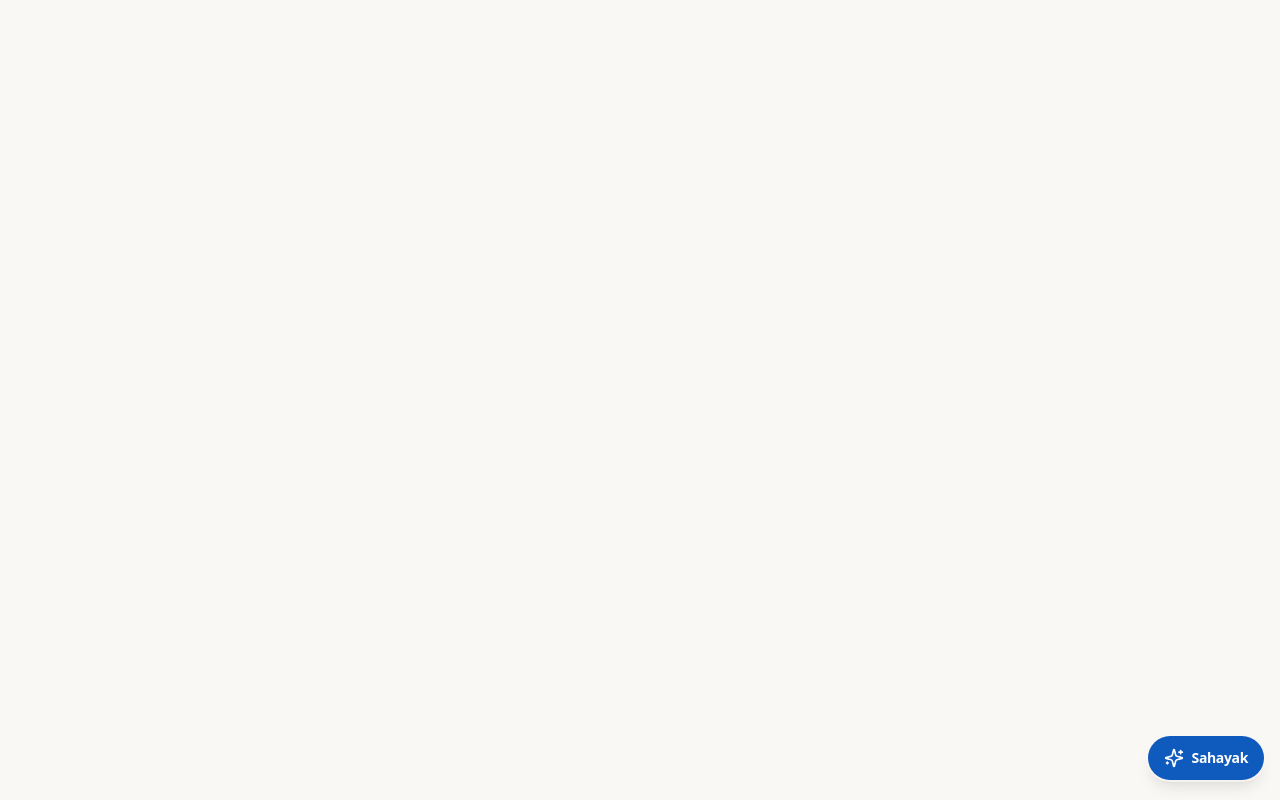
TownAssistant › TownAssistantDrawer UI › keeps user question and live AI result immediately visible in the open scroll container on form submit
Click the button with test id "town-assistant-fab" at (1206, 758), box x1=1148 y1=736 x2=1264 y2=780
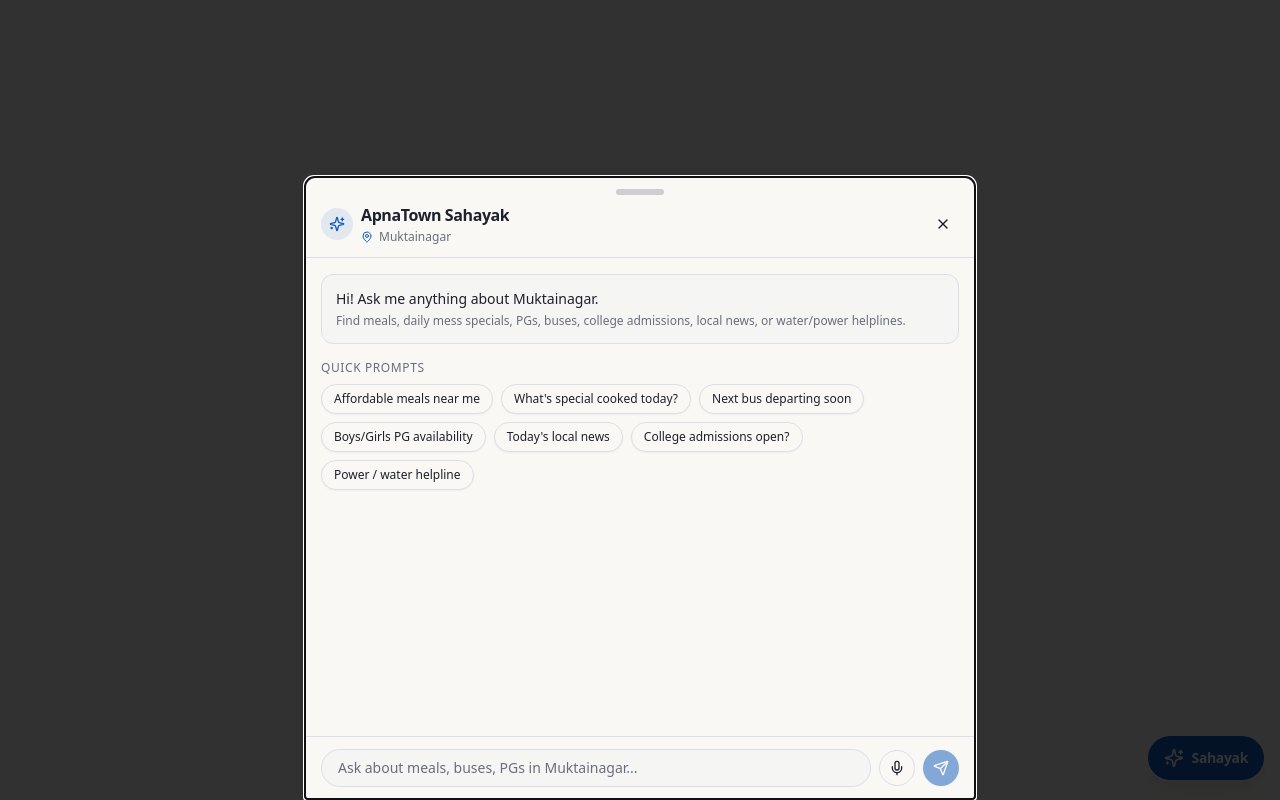
Type "Best cheap meal today?" into the field named "Ask a question" at (596, 768), box x1=321 y1=749 x2=871 y2=787
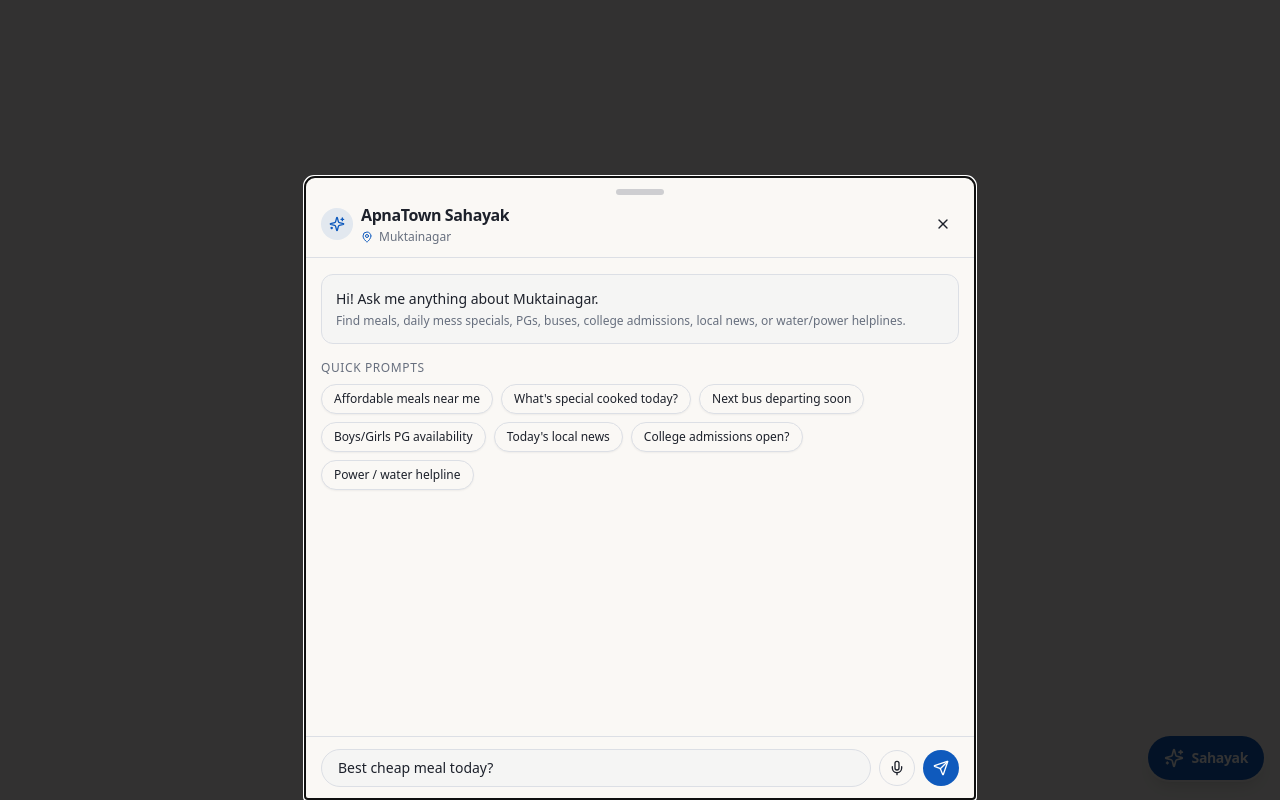
Submit the form, box x1=305 y1=736 x2=975 y2=799
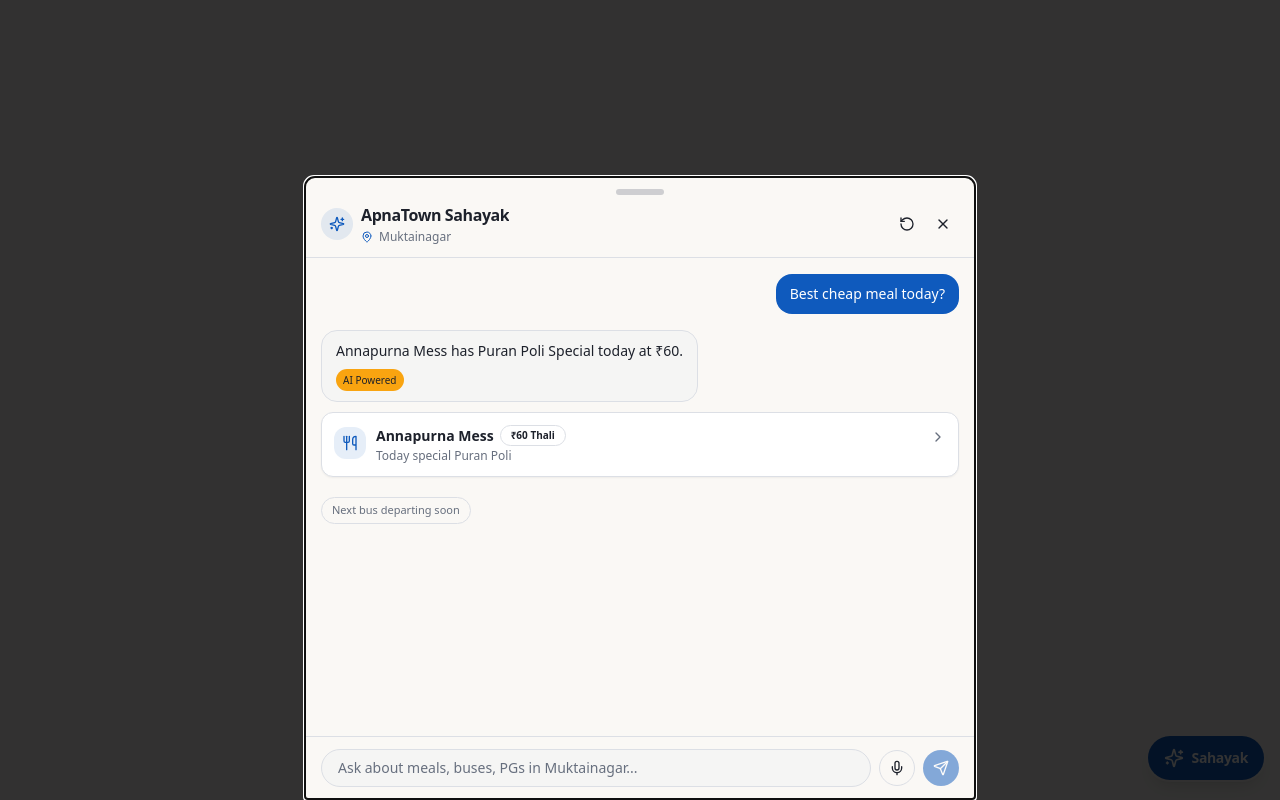
Now the text "AI Powered" is shown, box x1=336 y1=369 x2=404 y2=391
Now the text "Annapurna Mess has Puran Poli Special today at ₹60." is shown, box x1=336 y1=341 x2=683 y2=361
Now the text "Best cheap meal today?" is shown, box x1=790 y1=284 x2=945 y2=304
